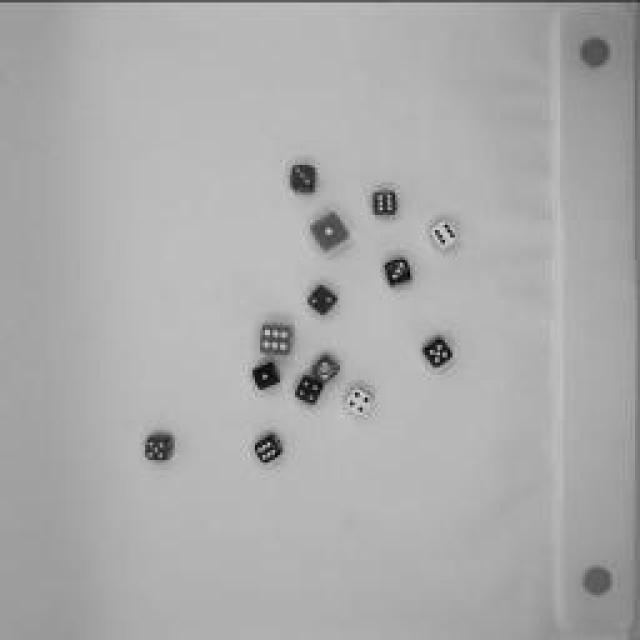dice_1: (305, 209, 353, 256), (248, 358, 284, 392)
dice_2: (304, 282, 341, 320)
dice_3: (307, 349, 345, 386), (380, 254, 415, 291), (288, 160, 322, 195)
dice_4: (340, 385, 380, 417), (292, 374, 328, 408)
dice_5: (420, 331, 458, 374), (141, 430, 179, 462)
dice_6: (426, 215, 464, 253), (250, 429, 288, 466), (368, 186, 400, 222)
